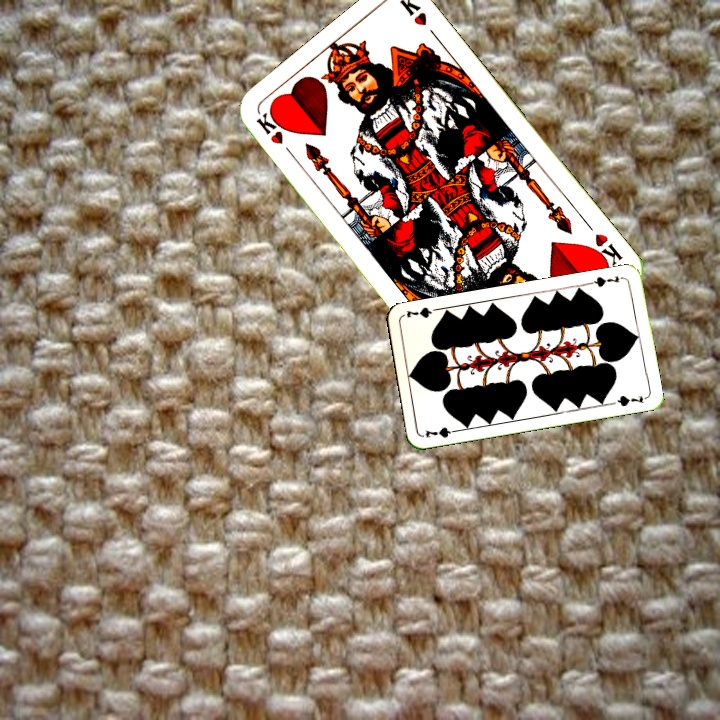G7: (421, 423, 462, 440), (586, 272, 627, 289)
HK: (252, 108, 298, 161), (587, 229, 625, 272)
